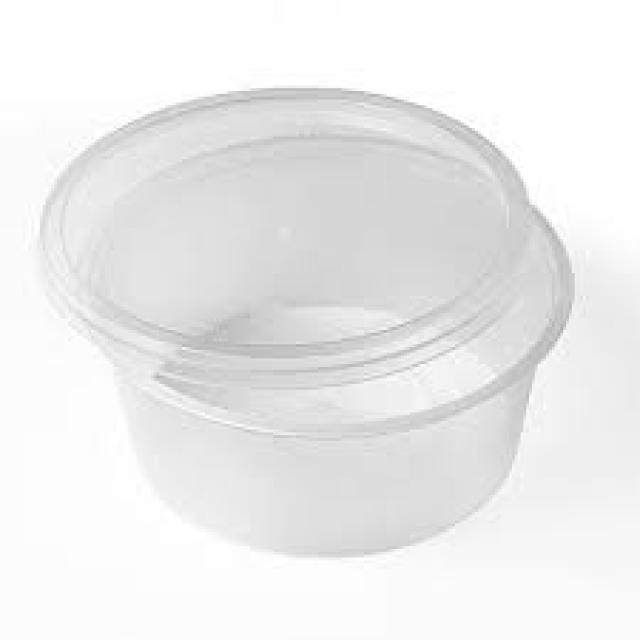disposable: (41, 82, 610, 559)
